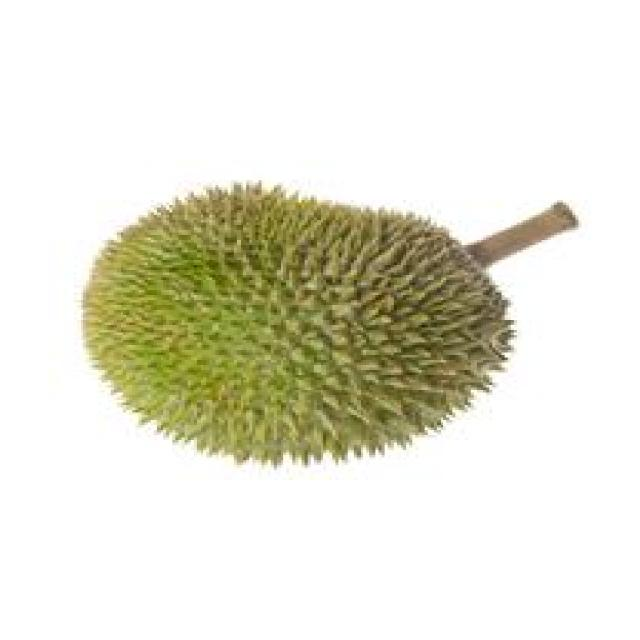Fruit: (77, 202, 505, 450)
